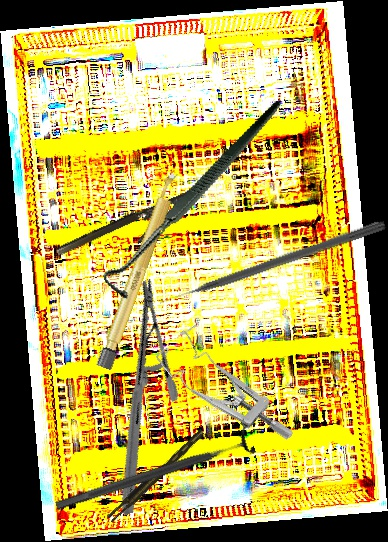Fixation Ring: (51, 423, 257, 522)
Hook Surgical: (67, 100, 325, 304)
Needle Holder: (40, 278, 235, 516), (54, 181, 215, 276)
Pusher: (157, 217, 387, 308)
Scalpel Handle: (96, 170, 183, 371)
Speculum: (153, 315, 295, 472)
Tissue Forceps: (103, 429, 210, 523)
